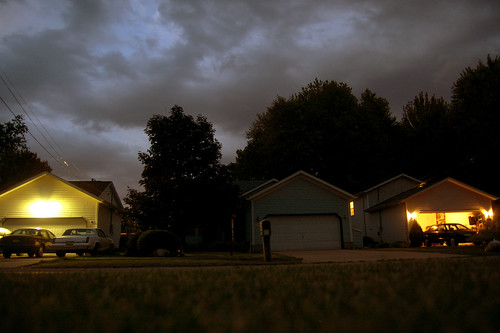building: (231, 172, 356, 249), (364, 170, 489, 247), (1, 176, 125, 253)
car: (59, 226, 109, 253), (425, 217, 475, 244), (1, 226, 50, 253)
sky: (1, 1, 480, 153)
tree: (232, 68, 403, 176), (120, 112, 228, 255), (405, 47, 500, 172)
